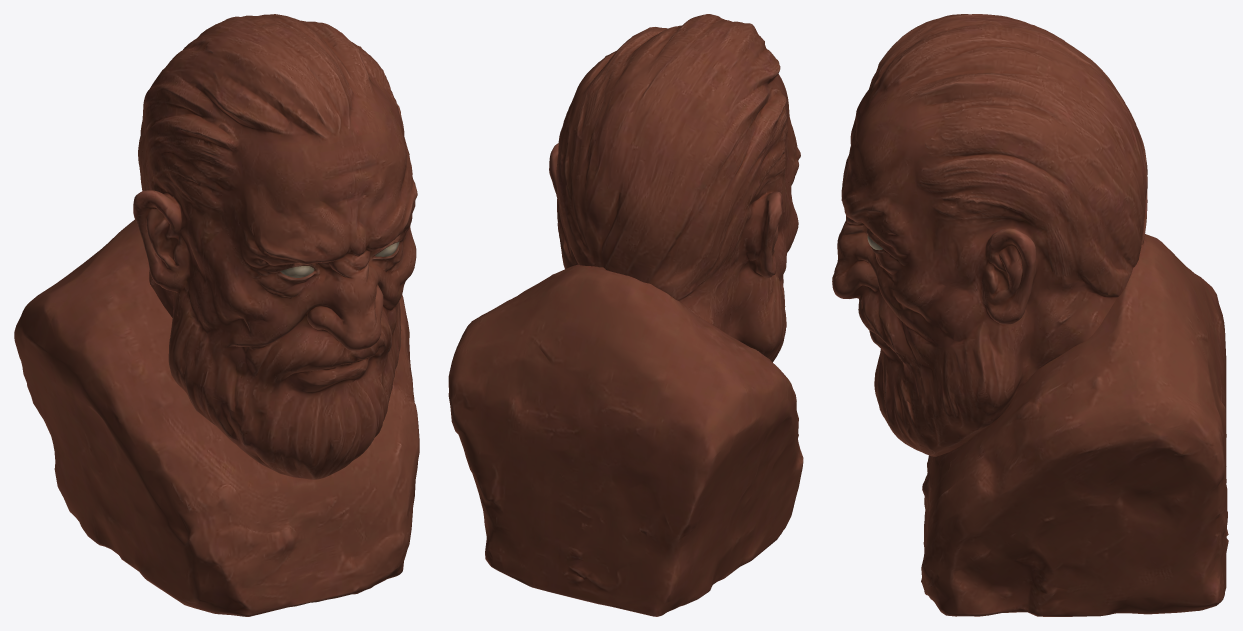
Rendered from clay_bust_study.optimized.glb.
3 renders of one model, left to right at view 1: azimuth 30°, elevation 25°; view 2: azimuth 150°, elevation 25°; view 3: azimuth 270°, elevation 25°, orthographic. The views are drawn at different scales.
Parts seen in each view (by area): view 1: Object_2, Object_3; view 2: Object_3, Object_2; view 3: Object_2, Object_3.
Boxes of the visible parts, x1,y1,x2,y2 form: Object_2: [133, 14, 417, 479]; Object_3: [14, 219, 419, 616]; Object_3: [448, 264, 803, 616]; Object_2: [549, 14, 800, 362]; Object_2: [832, 14, 1147, 456]; Object_3: [867, 234, 1228, 616].
Size of the model in its own units: 0.3201 by 0.5179 by 0.3455.
1 material, 1 textured.
